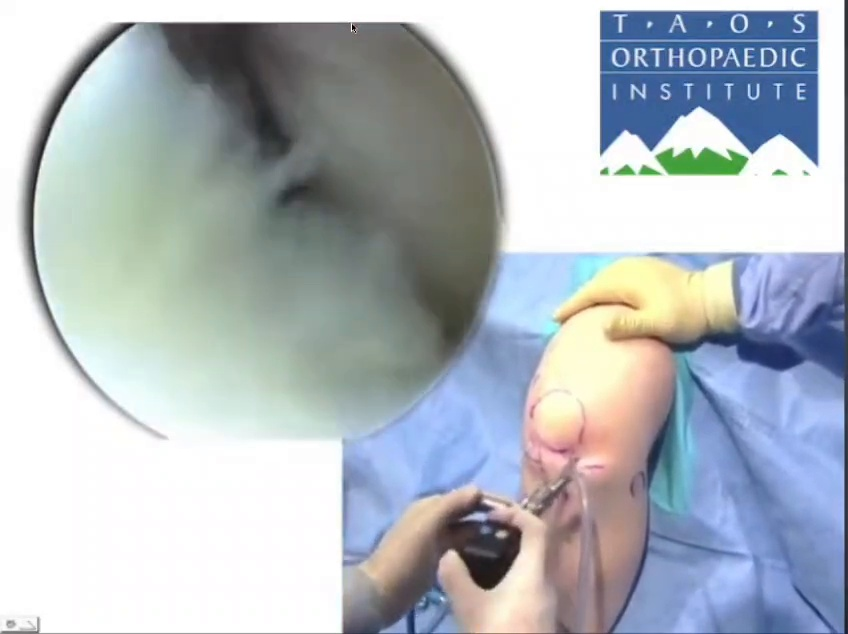arthroscope: (778, 350, 848, 634)
